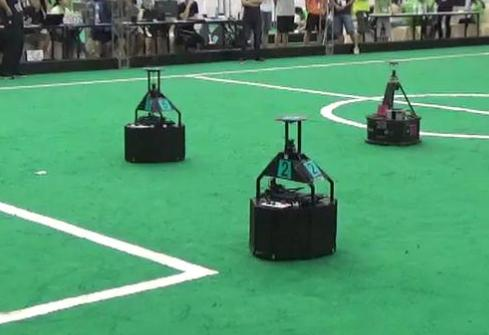robot: (249, 115, 338, 260), (123, 66, 188, 166), (364, 57, 425, 147)
